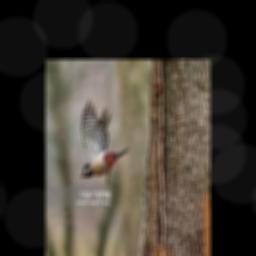Woodpecker: (80, 97, 129, 184)
